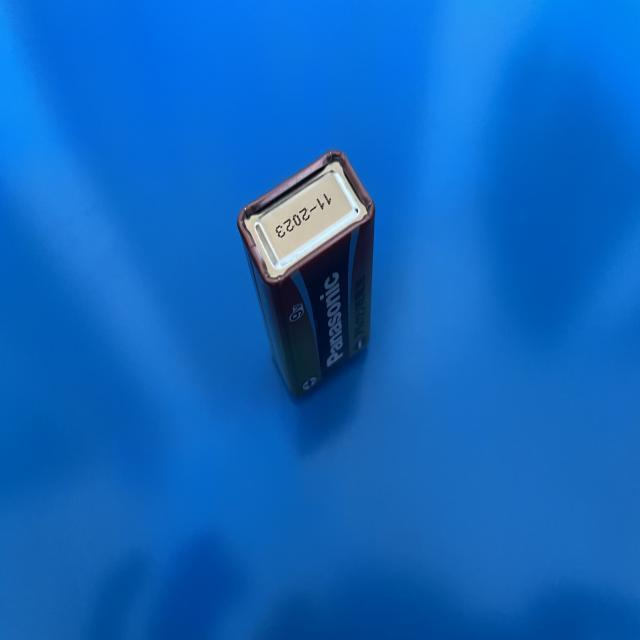9V: (237, 152, 375, 396)
